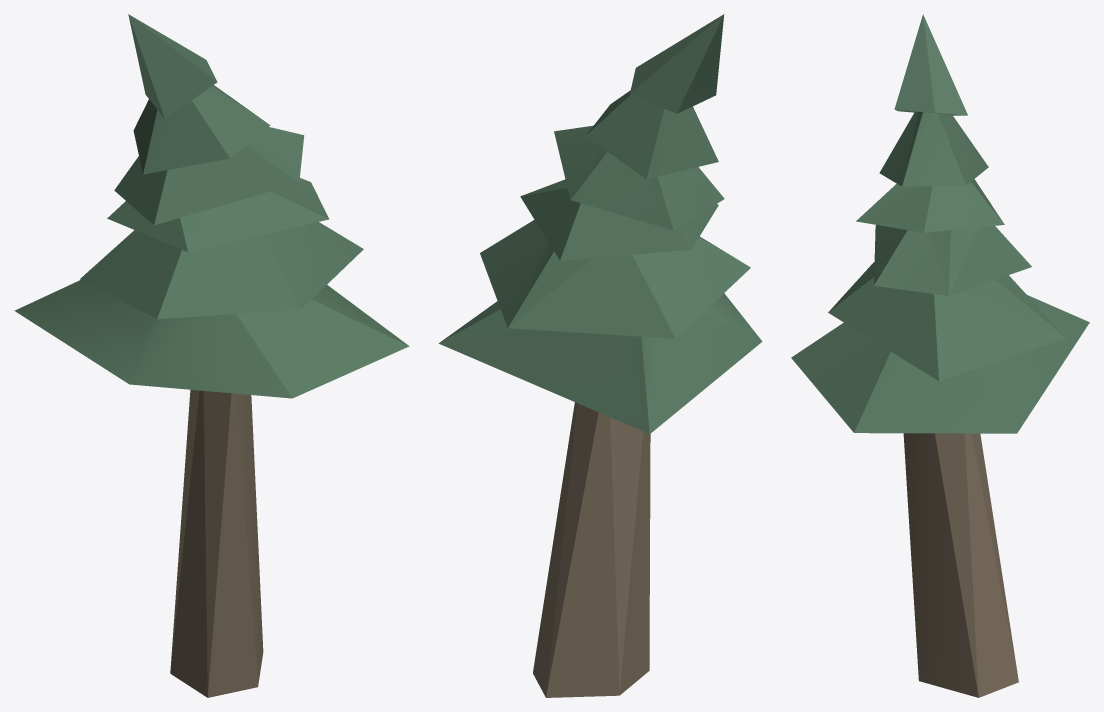
The model's file is Vegetation_Tree_Alpine_06.fbx.
The picture shows the model from 3 angles, left to right: view 1: azimuth 30°, elevation 25°; view 2: azimuth 150°, elevation 25°; view 3: azimuth 270°, elevation 25°; orthographic projection. The views are drawn at different scales.
Visible parts, largest first — view 1: Vegetation_Tree_Alpine_06; view 2: Vegetation_Tree_Alpine_06; view 3: Vegetation_Tree_Alpine_06.
Boxes of the visible parts, x1,y1,x2,y2 form: Vegetation_Tree_Alpine_06: [14, 14, 409, 697]; Vegetation_Tree_Alpine_06: [438, 14, 762, 697]; Vegetation_Tree_Alpine_06: [791, 14, 1089, 697].
Size of the model in its own units: 98.99 by 251 by 111.
